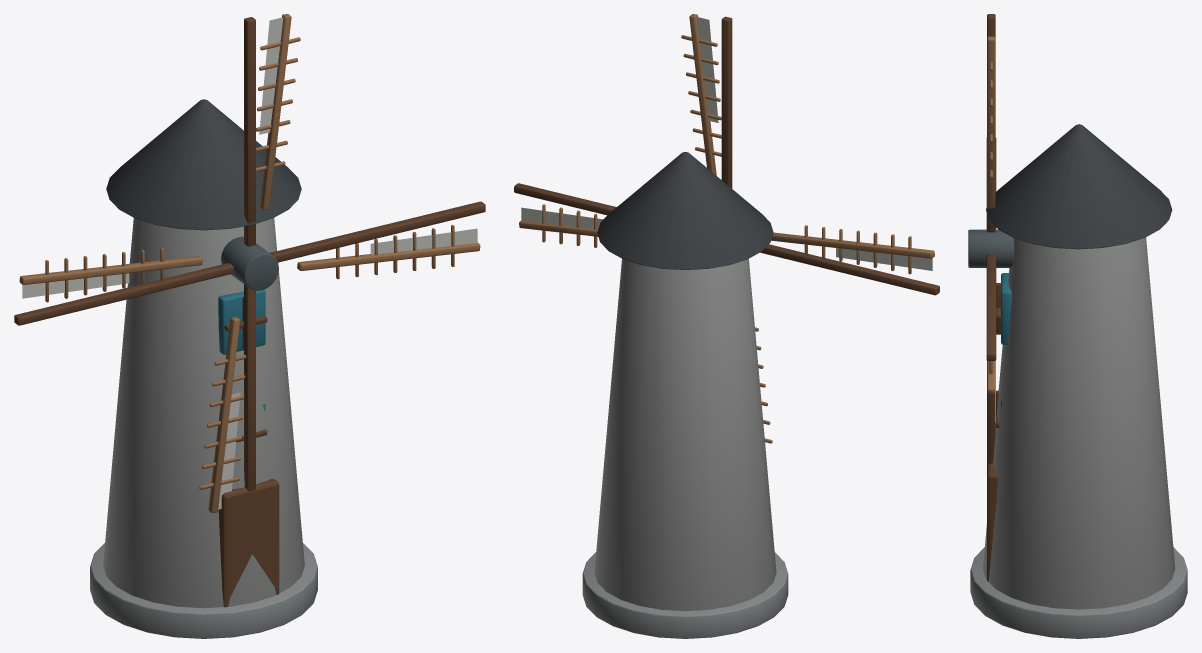
The model's file is CloudVillageWindmill.fbx.
3 renders of one model, left to right at view 1: azimuth 30°, elevation 25°; view 2: azimuth 150°, elevation 25°; view 3: azimuth 270°, elevation 25°, orthographic. The views are drawn at different scales.
Visible parts, largest first — view 1: Tapered masonry tower, Standing seam cap, Stone foundation.001, Door, Sail main spar, Sail main spar.003, Sail main spar.001, Sail main spar.002, Machined rotor axle, Sail outer rail.002, Sail outer rail, Sail outer rail.003 (+6 smaller); view 2: Tapered masonry tower, Standing seam cap, Stone foundation.001, Sail main spar, Sail main spar.003, Sail outer rail.003, Sail outer rail, Sail main spar.001, Canvas sail, Canvas sail.003, Canvas sail.001, Sail outer rail.001; view 3: Tapered masonry tower, Standing seam cap, Stone foundation.001, Machined rotor axle, Sail outer rail, Sail main spar.001, Door, Tower window.001, Sail main spar.002, Sail main spar.
Boxes of the visible parts, x1=… form: Tapered masonry tower: x1=103, y1=218, x2=304, y2=608; Standing seam cap: x1=106, y1=99, x2=301, y2=230; Stone foundation.001: x1=90, y1=543, x2=317, y2=638; Door: x1=218, y1=478, x2=279, y2=607; Sail main spar: x1=244, y1=17, x2=255, y2=246; Sail main spar.003: x1=14, y1=263, x2=233, y2=325; Sail main spar.001: x1=270, y1=201, x2=485, y2=262; Sail main spar.002: x1=244, y1=284, x2=255, y2=491; Machined rotor axle: x1=221, y1=236, x2=278, y2=290; Sail outer rail.002: x1=208, y1=317, x2=240, y2=513; Sail outer rail: x1=259, y1=14, x2=291, y2=209; Sail outer rail.003: x1=19, y1=256, x2=202, y2=284; Tapered masonry tower: x1=594, y1=259, x2=776, y2=611; Standing seam cap: x1=597, y1=152, x2=773, y2=269; Stone foundation.001: x1=582, y1=552, x2=788, y2=638; Sail main spar: x1=721, y1=16, x2=732, y2=188; Sail main spar.003: x1=760, y1=244, x2=939, y2=295; Sail outer rail.003: x1=771, y1=232, x2=934, y2=258; Sail outer rail: x1=689, y1=14, x2=716, y2=175; Sail main spar.001: x1=514, y1=183, x2=616, y2=215; Canvas sail: x1=696, y1=17, x2=718, y2=122; Canvas sail.003: x1=836, y1=248, x2=932, y2=270; Canvas sail.001: x1=521, y1=207, x2=602, y2=229; Sail outer rail.001: x1=519, y1=221, x2=598, y2=236; Tapered masonry tower: x1=983, y1=237, x2=1175, y2=609; Standing seam cap: x1=986, y1=124, x2=1172, y2=249; Stone foundation.001: x1=970, y1=547, x2=1187, y2=638; Machined rotor axle: x1=968, y1=229, x2=1013, y2=267; Sail outer rail: x1=987, y1=36, x2=995, y2=208; Sail main spar.001: x1=986, y1=254, x2=996, y2=360; Door: x1=987, y1=463, x2=998, y2=581; Tower window.001: x1=1001, y1=273, x2=1011, y2=344; Sail main spar.002: x1=987, y1=361, x2=995, y2=465; Sail main spar: x1=987, y1=14, x2=995, y2=232.
Bounding box in the file's own units: 9.1 × 11.27 × 3.88.
